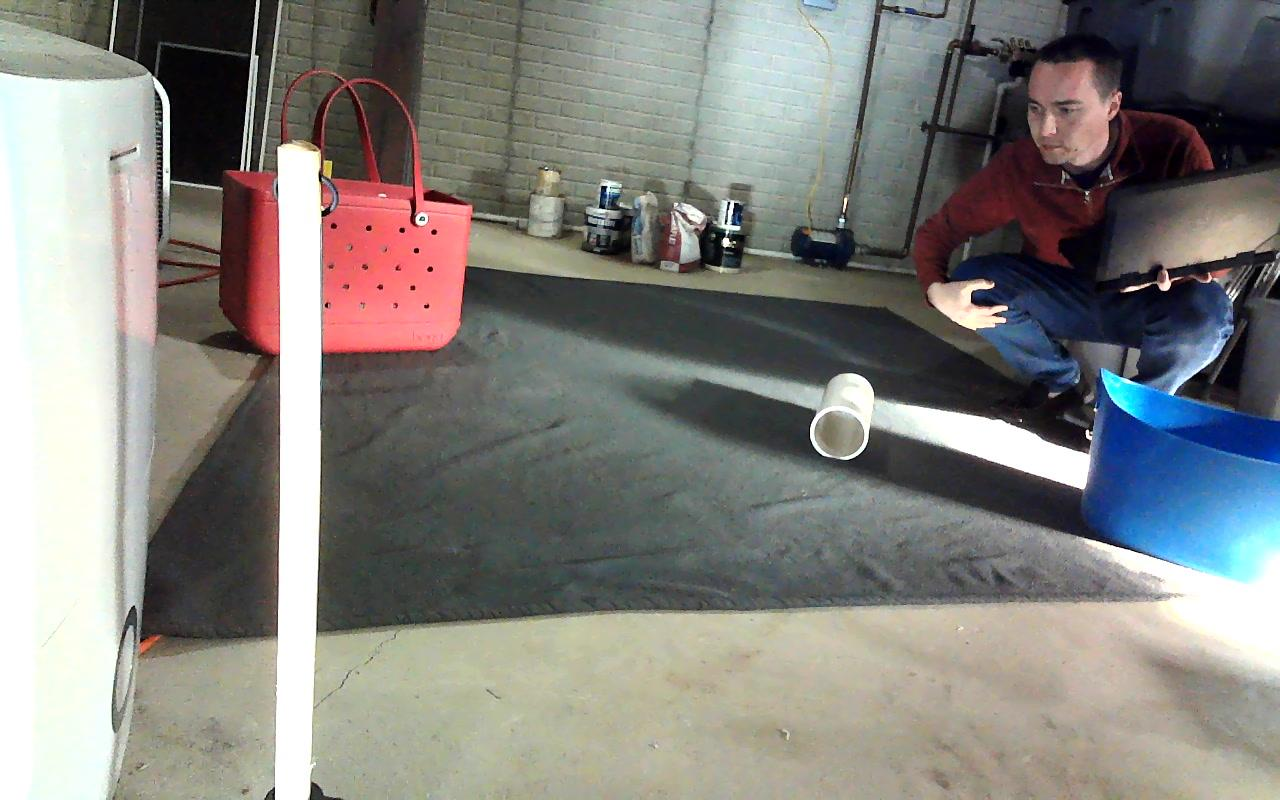coral: (809, 374, 874, 459)
